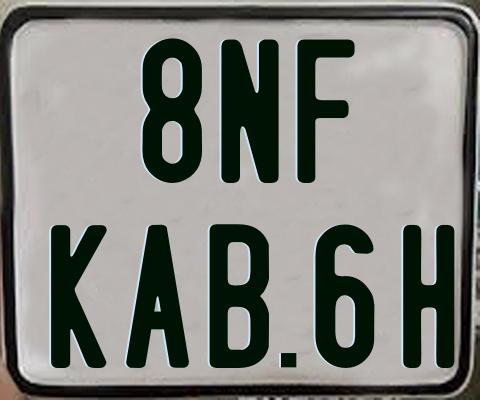6: (314, 224, 380, 369)
8: (140, 37, 204, 184)
A: (123, 222, 191, 371)
B: (208, 224, 270, 369)
F: (295, 37, 356, 181)
H: (403, 224, 460, 370)
K: (51, 223, 109, 367)
N: (218, 36, 277, 180)
